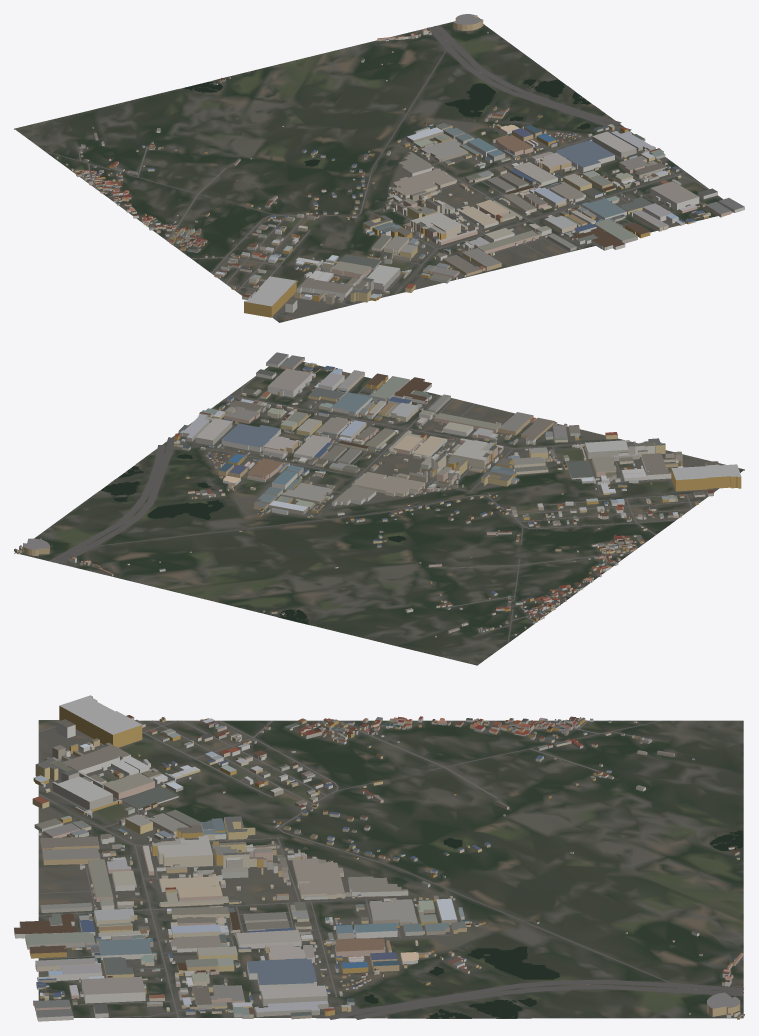
3 views of the same model, one above another, from view 1: azimuth 30°, elevation 25°; view 2: azimuth 150°, elevation 25°; view 3: azimuth 270°, elevation 25° (orthographic). The views are drawn at different scales.
Visible parts, largest first — view 1: ground, buildings, roads, water; view 2: ground, buildings, roads, water; view 3: ground, buildings, roads, water.
Boxes of the visible parts, <box> form: ground: <box>14,21,732,322</box>; buildings: <box>57,14,744,317</box>; roads: <box>45,25,708,318</box>; water: <box>184,79,590,166</box>; ground: <box>14,358,744,665</box>; buildings: <box>14,352,741,637</box>; roads: <box>49,377,714,642</box>; water: <box>101,454,406,623</box>; ground: <box>38,720,743,1018</box>; buildings: <box>14,695,744,1021</box>; roads: <box>38,720,743,1019</box>; water: <box>364,830,742,1018</box>.
Size of the model in its own units: 1466 by 37 by 1454.
